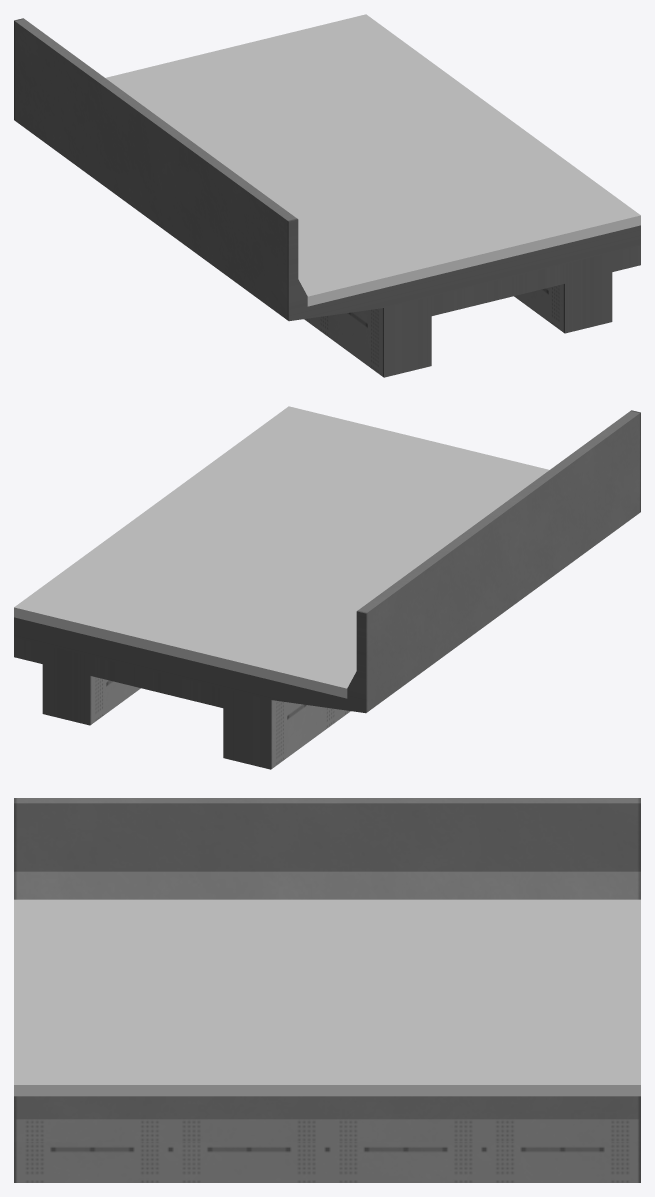
The model's file is 【組立式】高速道路(右一車線)_W3.5m×D5m×H0.1m.fbx.
3 views of the same model, one above another, from view 1: azimuth 30°, elevation 25°; view 2: azimuth 150°, elevation 25°; view 3: azimuth 270°, elevation 25° (orthographic). The views are drawn at different scales.
Visible parts, largest first — view 1: Road, Wall; view 2: Road, Wall; view 3: Road, Wall.
Boxes of the visible parts, left/top/right/bottom form: Road: left=105, top=14, right=640, bottom=306; Wall: left=14, top=18, right=640, bottom=377; Road: left=14, top=406, right=549, bottom=698; Wall: left=14, top=410, right=640, bottom=769; Road: left=14, top=899, right=640, bottom=1096; Wall: left=14, top=798, right=640, bottom=1182.
Bounding box in the file's own units: 3.7 × 1.8 × 5.
